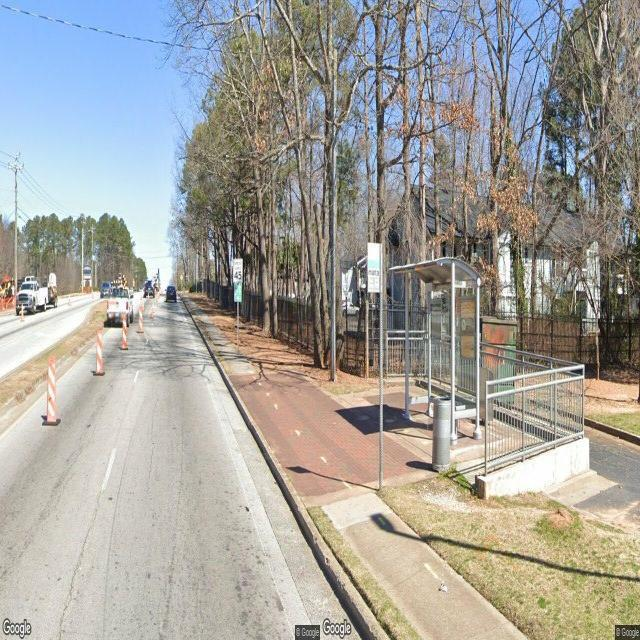seating: (430, 396, 466, 442)
shelter: (388, 256, 484, 441)
trash_can: (431, 392, 451, 472)
